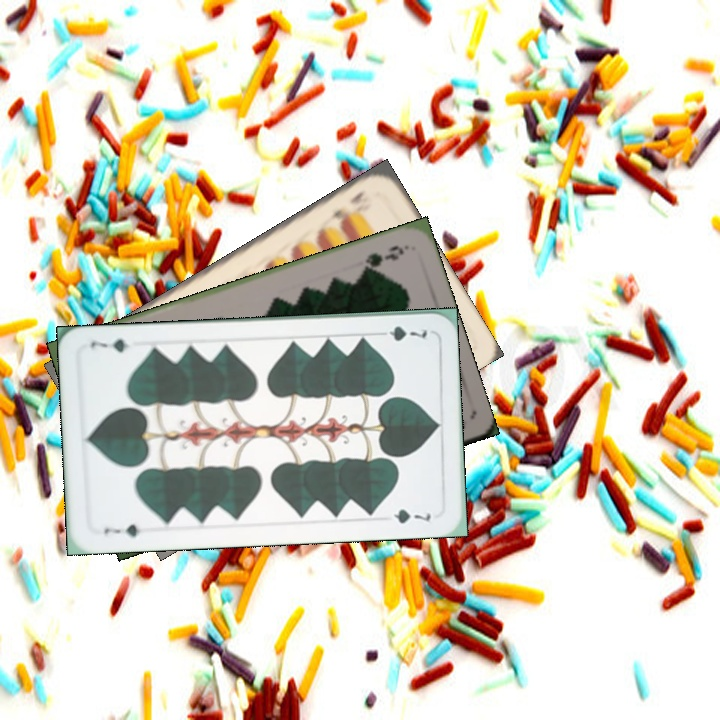E10: (326, 187, 367, 226)
G7: (372, 321, 429, 344), (99, 520, 143, 540)
G9: (358, 241, 409, 274)
